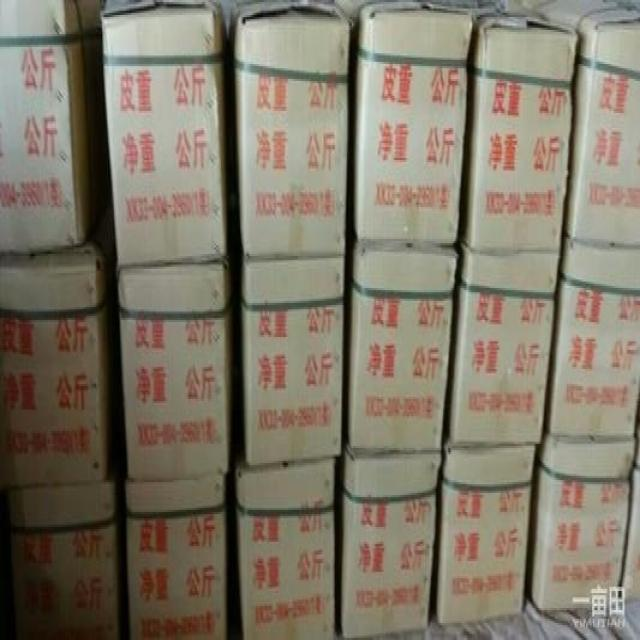box: (100, 1, 233, 270), (231, 0, 351, 256), (352, 2, 476, 247), (0, 241, 120, 486), (459, 17, 578, 253), (0, 1, 106, 252), (118, 259, 232, 478), (344, 237, 459, 452), (444, 243, 562, 446), (241, 254, 344, 467), (550, 1, 639, 247), (0, 463, 123, 638), (339, 440, 443, 638), (526, 424, 636, 611), (544, 230, 639, 437), (234, 457, 339, 638), (434, 444, 536, 624), (124, 474, 229, 638)
